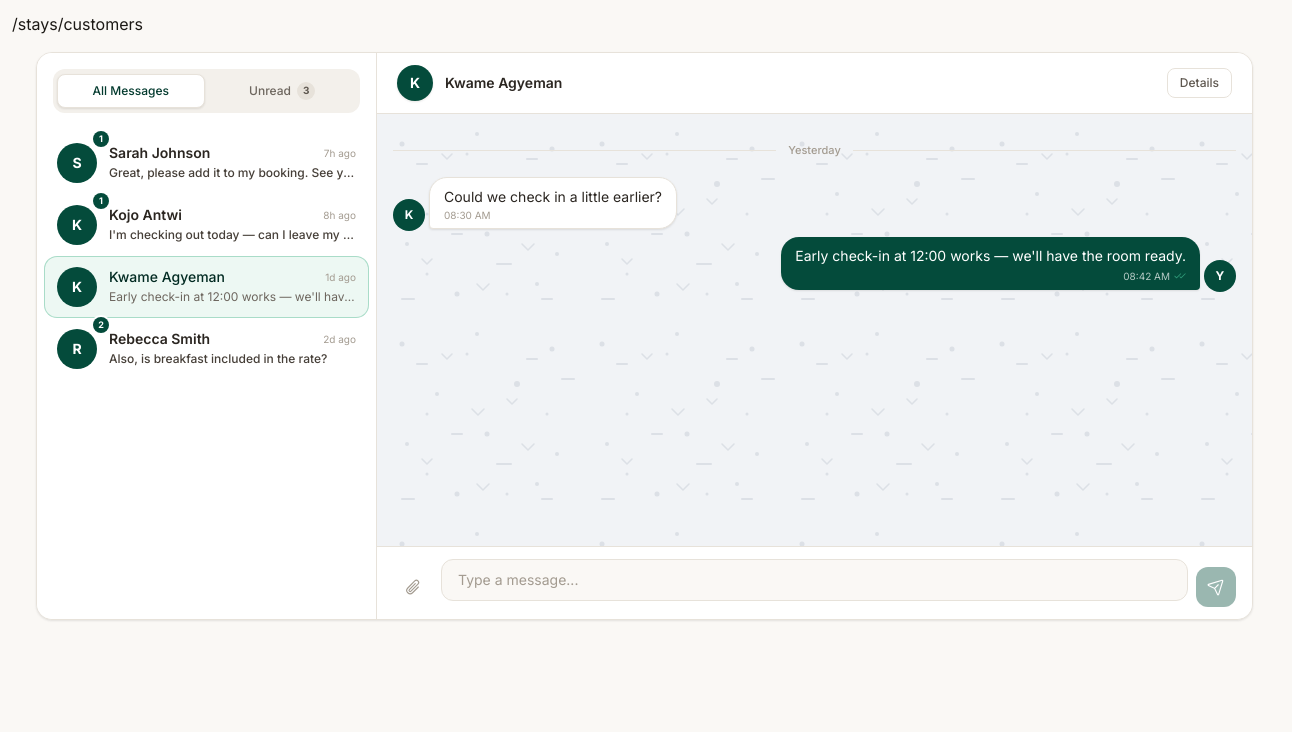
Test: StaysCustomersPage — experiences-parity customers chat › opens the customer profile with the guest's bookings
Click the text "Sarah Johnson": x=160, y=153 top-left (109, 143), bottom-right (210, 163)
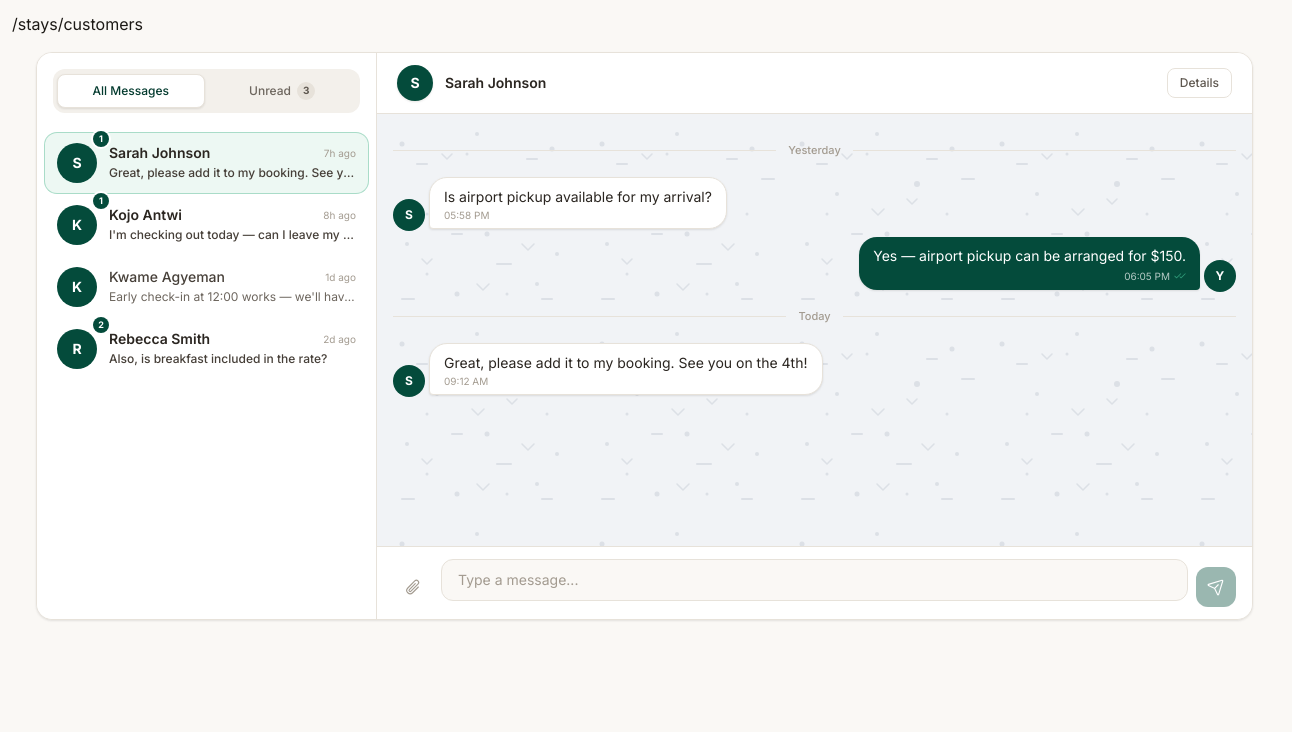
Click the button "Details": x=1199, y=83 top-left (1167, 68), bottom-right (1232, 98)
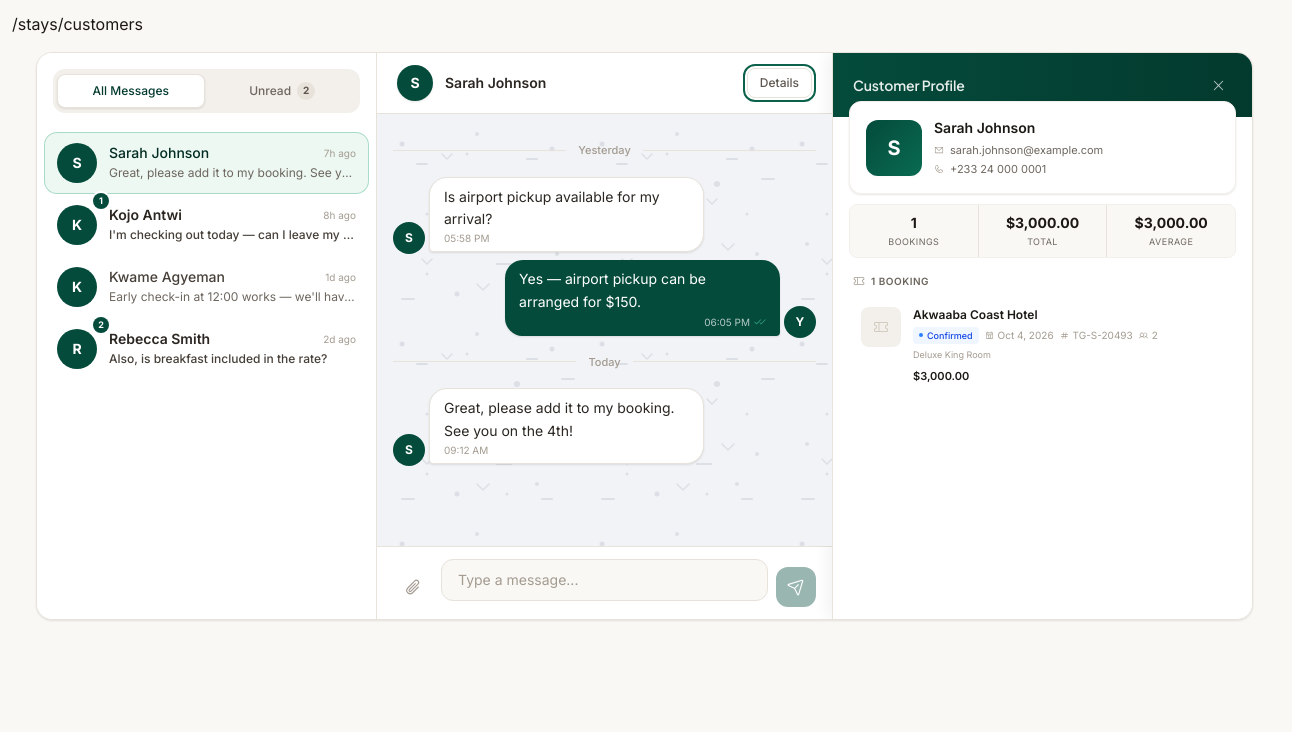
Result: the heading "Customer Profile" is shown at top-left (853, 75), bottom-right (965, 95)
Result: the text "Bookings" is shown at top-left (888, 235), bottom-right (939, 248)
Result: the text "Akwaaba Coast Hotel" is shown at top-left (913, 306), bottom-right (1038, 322)
